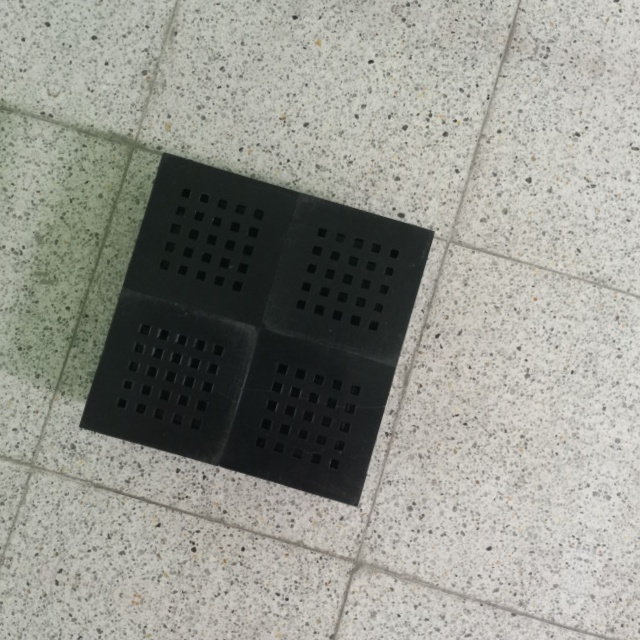pallet: (68, 136, 446, 520)
